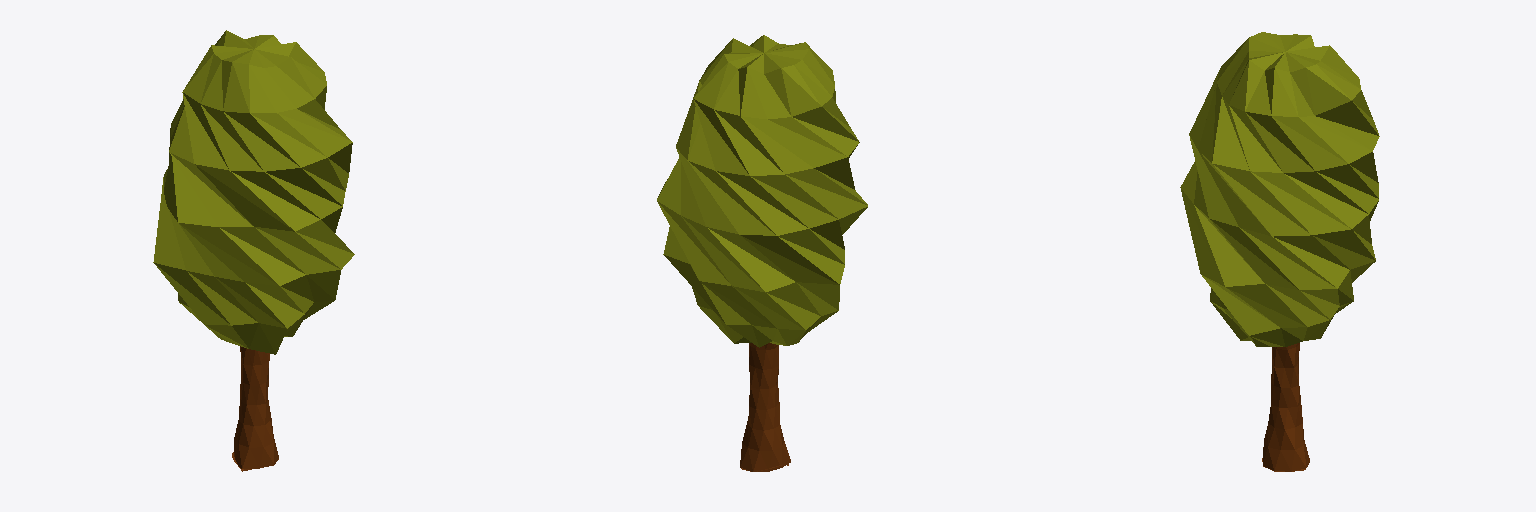
File: tree2.obj
3 views of the same model, side by side, from view 1: azimuth 30°, elevation 25°; view 2: azimuth 150°, elevation 25°; view 3: azimuth 270°, elevation 25° (orthographic).
Parts seen in each view (by area): view 1: treetest.obj; view 2: treetest.obj; view 3: treetest.obj.
Boxes of the visible parts, x1,y1,x2,y2 form: treetest.obj: [153, 30, 354, 471]; treetest.obj: [657, 35, 867, 471]; treetest.obj: [1180, 32, 1379, 471].
Bounding box in the file's own units: 210 × 469 × 203.